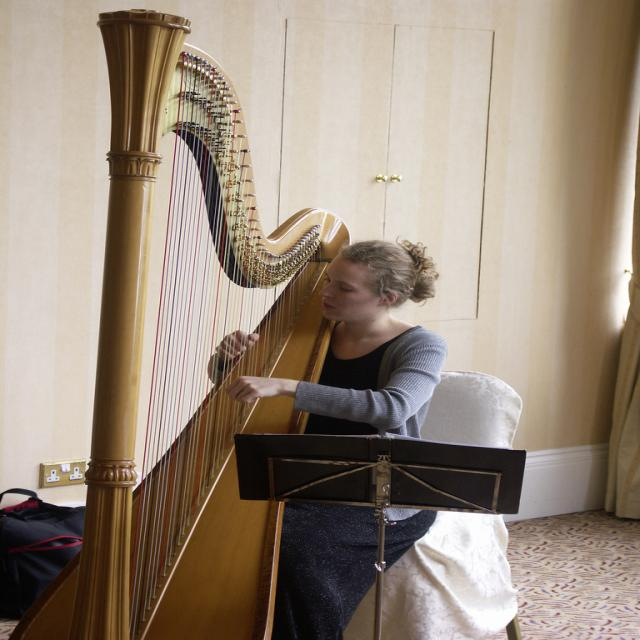harp: (2, 8, 355, 638)
